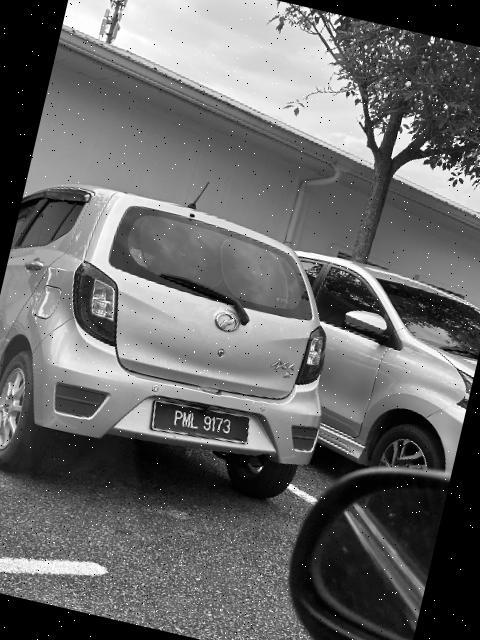License_Plate: (149, 398, 257, 453)
PML9173: (149, 398, 257, 453)
car: (1, 170, 363, 534), (236, 240, 480, 514)
